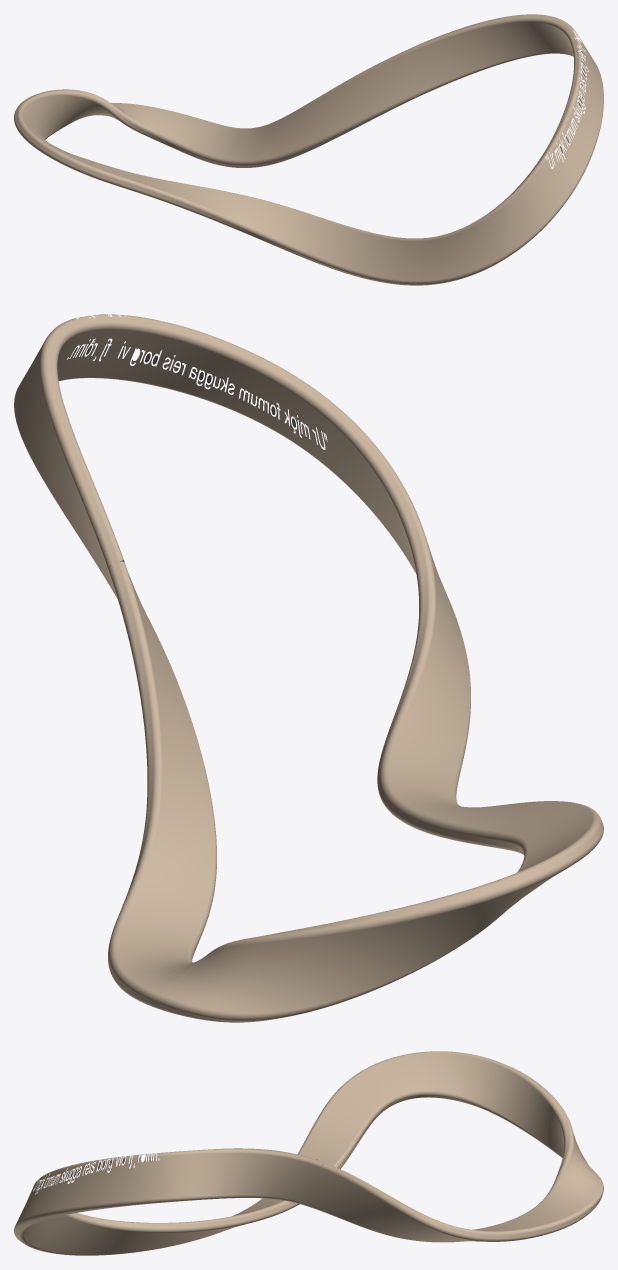
The model's file is mobius_pavilion_isolated.glb.
The picture shows the model from 3 angles, top to bottom: view 1: azimuth 30°, elevation 25°; view 2: azimuth 150°, elevation 25°; view 3: azimuth 270°, elevation 25°; orthographic projection. The views are drawn at different scales.
Visible parts, largest first — view 1: MOBIUS_PAVILION_SHELL; view 2: MOBIUS_PAVILION_SHELL; view 3: MOBIUS_PAVILION_SHELL.
Part boxes in pixels (bbox=[...]): MOBIUS_PAVILION_SHELL: bbox=[14, 14, 603, 285]; MOBIUS_PAVILION_SHELL: bbox=[14, 314, 603, 1022]; MOBIUS_PAVILION_SHELL: bbox=[14, 1051, 603, 1255].
Size of the model in its own units: 52.54 by 22.77 by 59.01.
